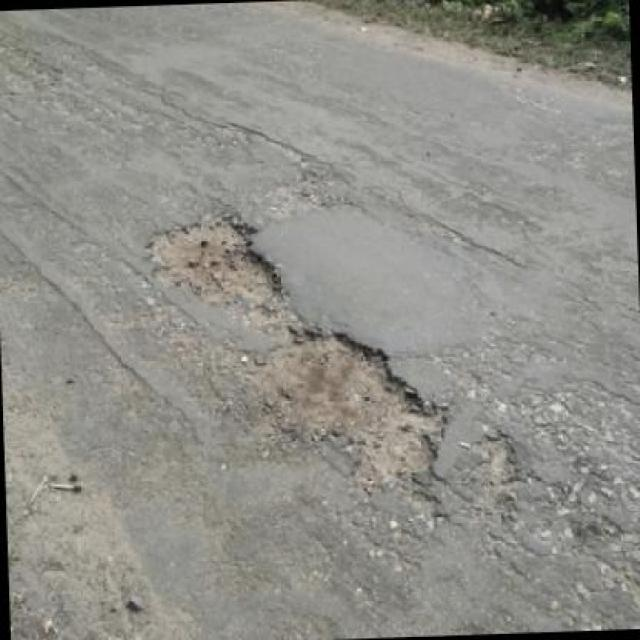pothole1: (238, 322, 448, 488), (137, 204, 292, 318), (468, 434, 522, 489)
